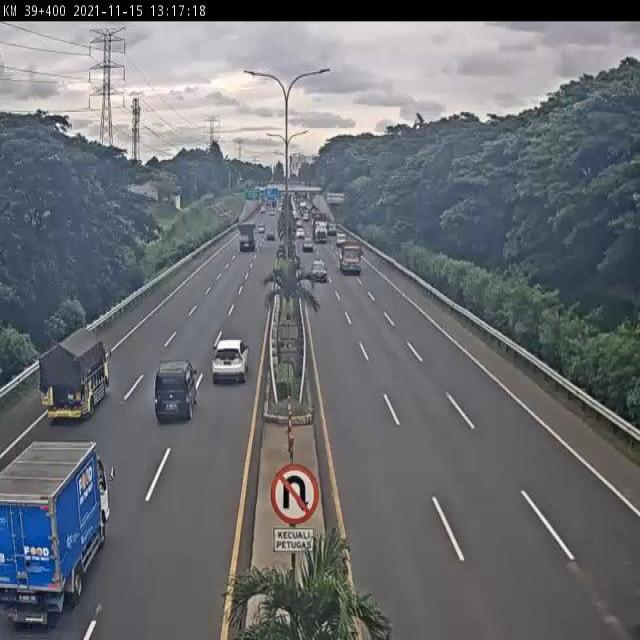big truck: (337, 240, 365, 277)
car: (153, 358, 200, 426), (210, 336, 251, 387), (308, 256, 329, 287)
truck-m-: (0, 442, 112, 622), (39, 330, 111, 422)
